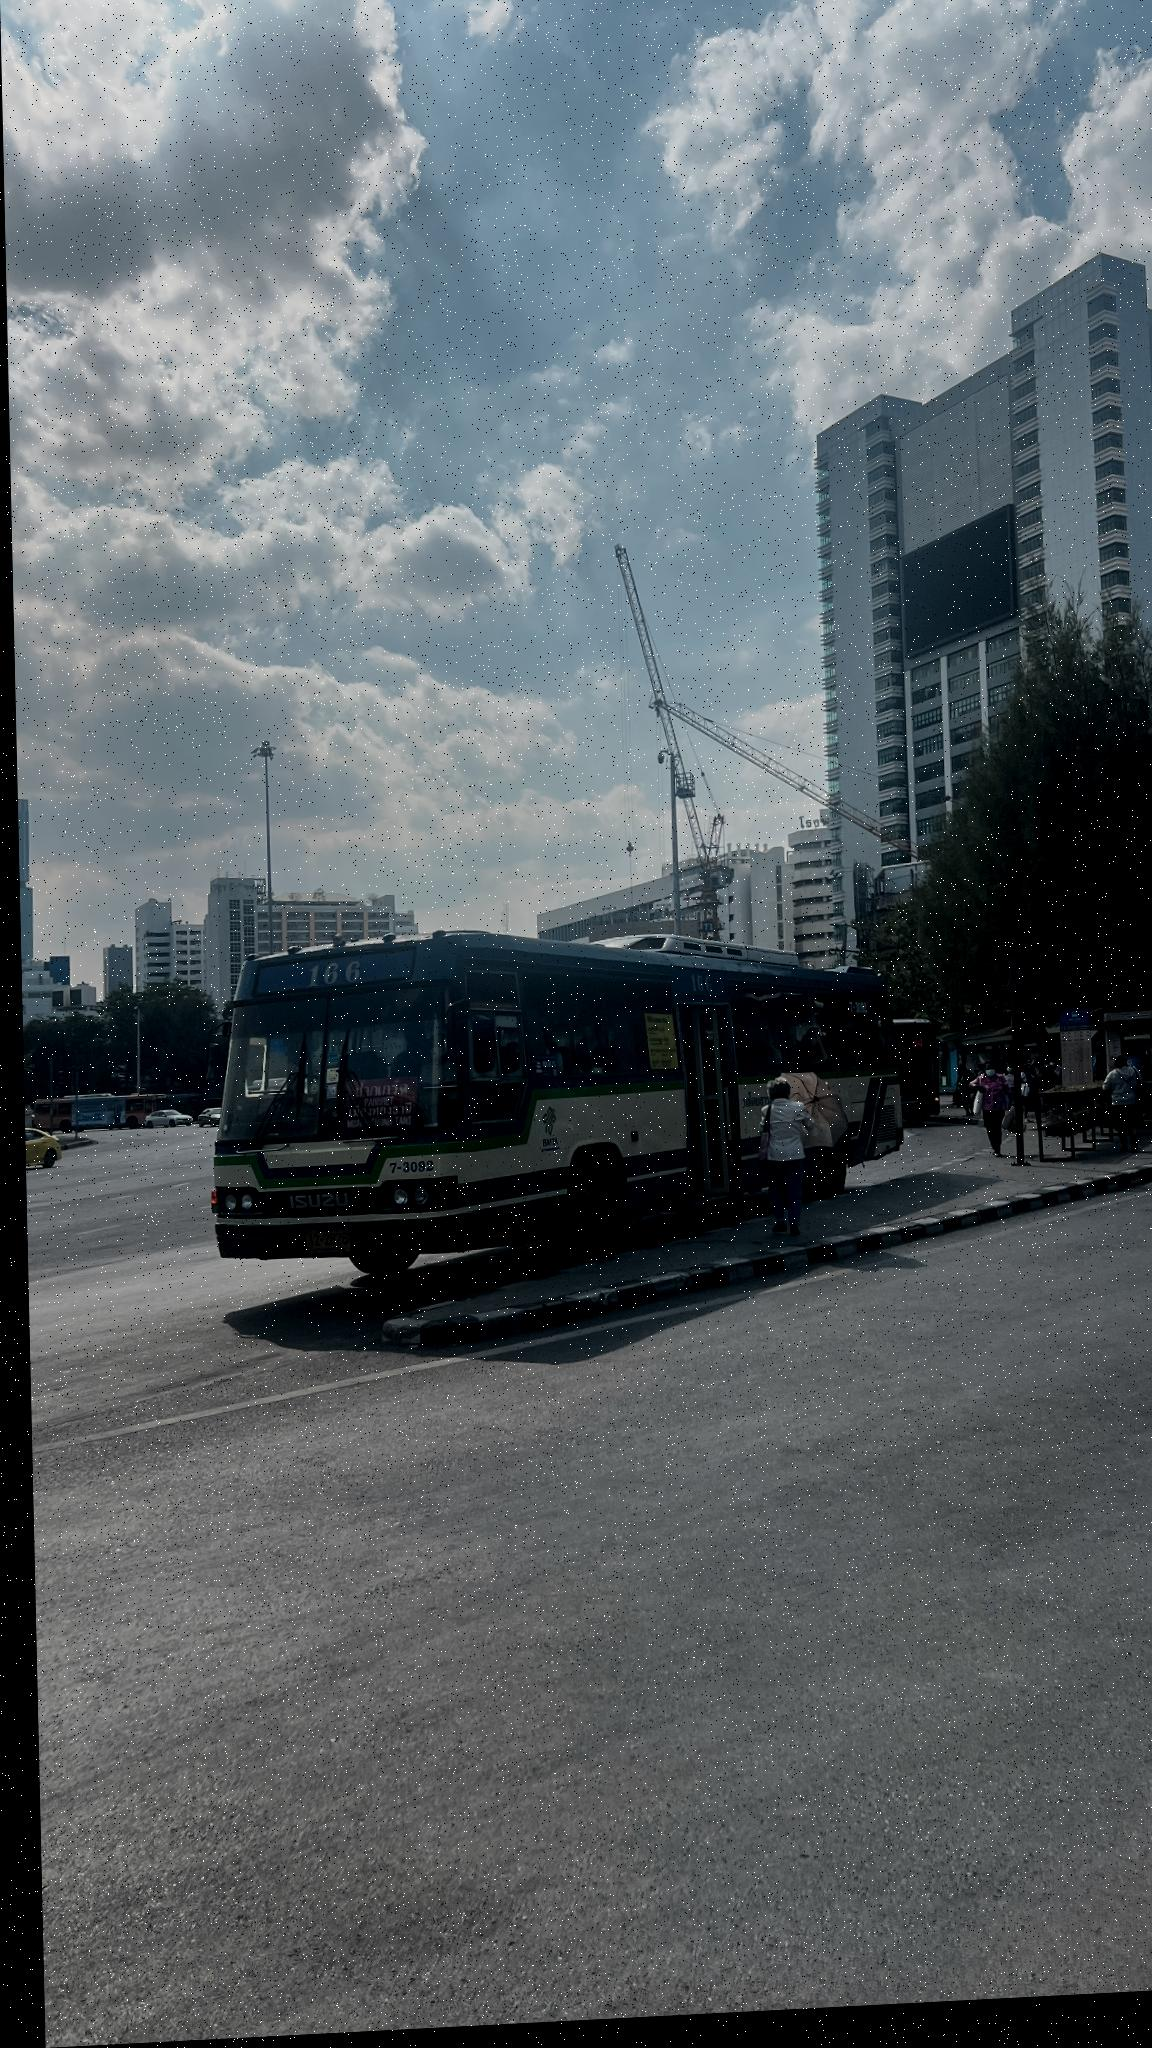BMTA-bus: (205, 892, 897, 1298)
Bus Line Number: (298, 959, 363, 993)
Bus Side Number: (381, 1160, 430, 1184)
Destination Sign: (339, 1079, 412, 1138)
